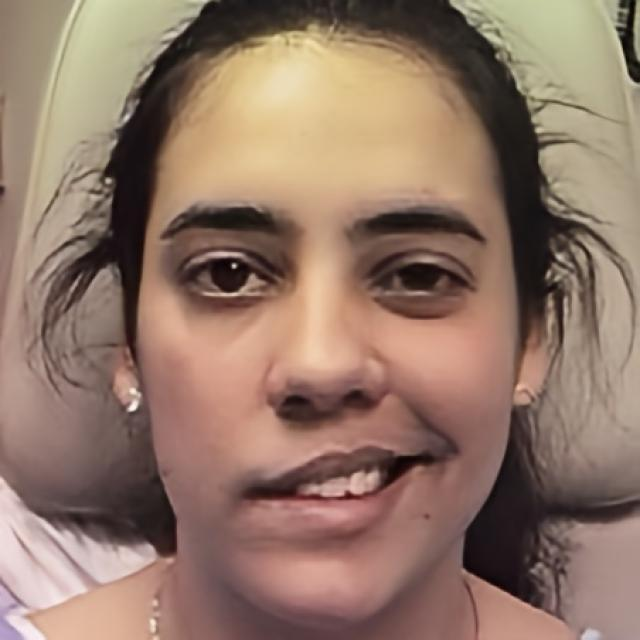content: (133, 18, 522, 631)
